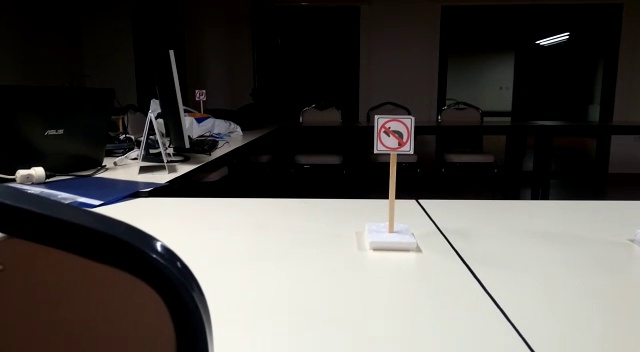sola_donulmez: (374, 115, 417, 153)
